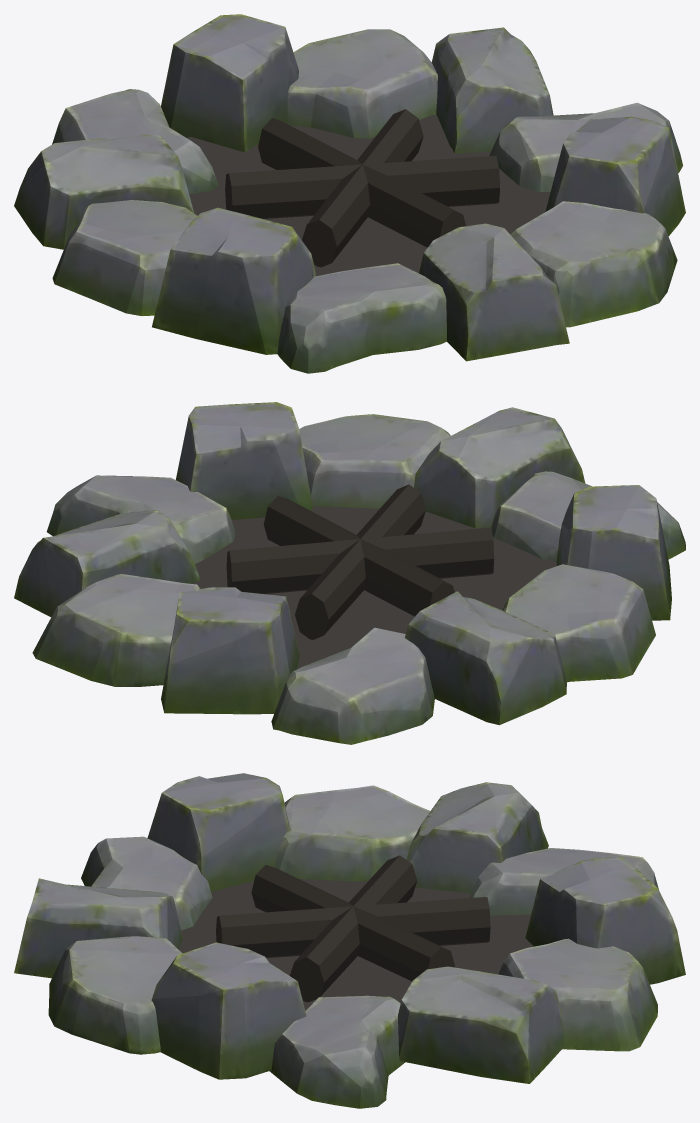
The model's file is fireold.glb.
The picture shows the model from 3 angles, top to bottom: view 1: azimuth 30°, elevation 25°; view 2: azimuth 150°, elevation 25°; view 3: azimuth 270°, elevation 25°; orthographic projection. The views are drawn at different scales.
Parts seen in each view (by area): view 1: Pebble_Round_1.001; view 2: Pebble_Round_1.001; view 3: Pebble_Round_1.001.
Boxes of the visible parts, x1,y1,x2,y2 form: Pebble_Round_1.001: (14,14,685,373); Pebble_Round_1.001: (14,402,685,744); Pebble_Round_1.001: (14,773,685,1108).
Size of the model in its own units: 1.4 by 0.2 by 1.4.
Materials: 6 (4 with a texture image).
